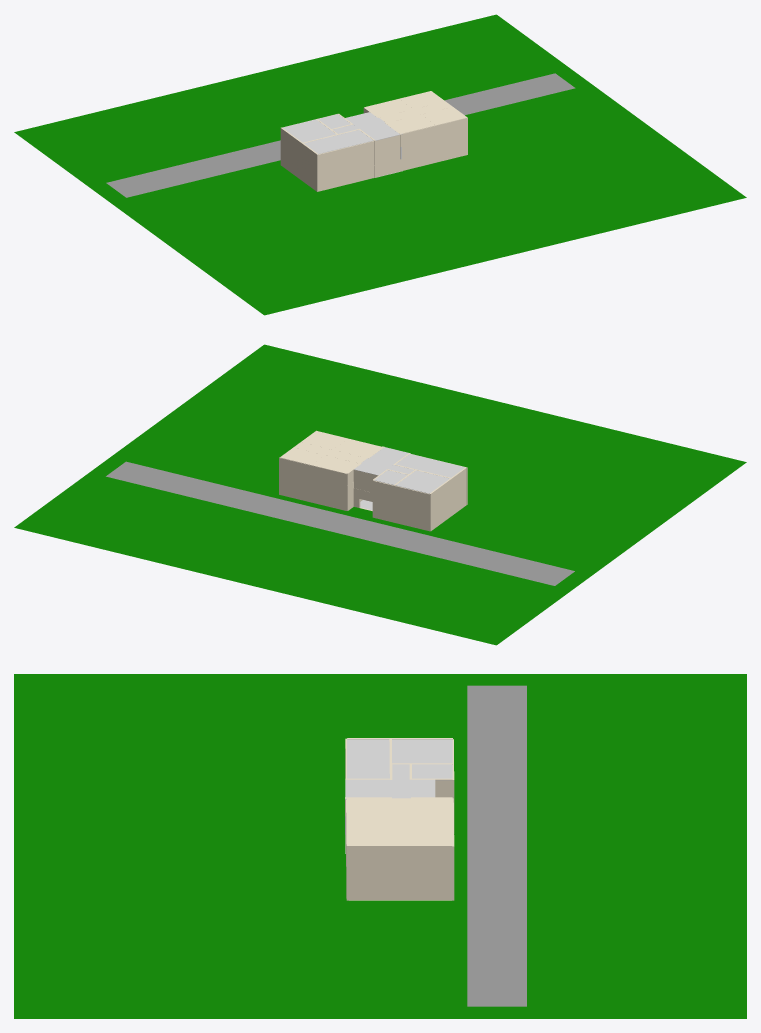
Rendered from campus.glb.
The picture shows the model from 3 angles, top to bottom: view 1: azimuth 30°, elevation 25°; view 2: azimuth 150°, elevation 25°; view 3: azimuth 270°, elevation 25°; orthographic projection. The views are drawn at different scales.
Visible parts, largest first — view 1: Plane, Plane.001, achtermuur, Cube.060, eetgrondverdiep2.003, Cube.007, inkomgrondverdiep2.003; view 2: Plane, Plane.001, achtermuur.001, Cube.060, achtermuur.002, eetgrondverdiep2.003, Cube.007, inkomgrondverdiep2.003, achtermuur.003; view 3: Plane, Plane.001, Cube.006, Cube.060, eetgrondverdiep2.003, inkomgrondverdiep2.003.
Part boxes in pixels (left/top/right/bottom): Plane: left=14, top=14, right=746, bottom=315; Plane.001: left=106, top=73, right=575, bottom=197; achtermuur: left=316, top=118, right=467, bottom=191; Cube.060: left=365, top=91, right=467, bottom=133; eetgrondverdiep2.003: left=282, top=114, right=373, bottom=154; Cube.007: left=280, top=127, right=317, bottom=190; inkomgrondverdiep2.003: left=345, top=112, right=402, bottom=140; Plane: left=14, top=344, right=746, bottom=645; Plane.001: left=106, top=461, right=574, bottom=585; achtermuur.001: left=279, top=457, right=347, bottom=510; Cube.060: left=280, top=430, right=381, bottom=473; achtermuur.002: left=372, top=480, right=430, bottom=531; eetgrondverdiep2.003: left=374, top=453, right=465, bottom=493; Cube.007: left=429, top=467, right=466, bottom=531; inkomgrondverdiep2.003: left=354, top=446, right=408, bottom=475; achtermuur.003: left=353, top=470, right=377, bottom=510; Plane: left=14, top=674, right=746, bottom=1018; Plane.001: left=467, top=685, right=526, bottom=1006; Cube.006: left=349, top=846, right=451, bottom=899; Cube.060: left=346, top=798, right=453, bottom=846; eetgrondverdiep2.003: left=347, top=738, right=452, bottom=780; inkomgrondverdiep2.003: left=345, top=779, right=435, bottom=799.
Bounding box in the file's own units: 117 × 8.75 × 105.
